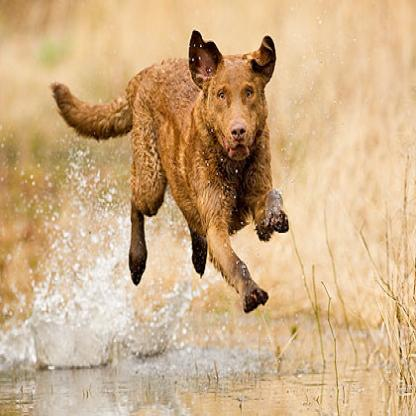Chesapeake Bay Retriever: (71, 18, 304, 296)
